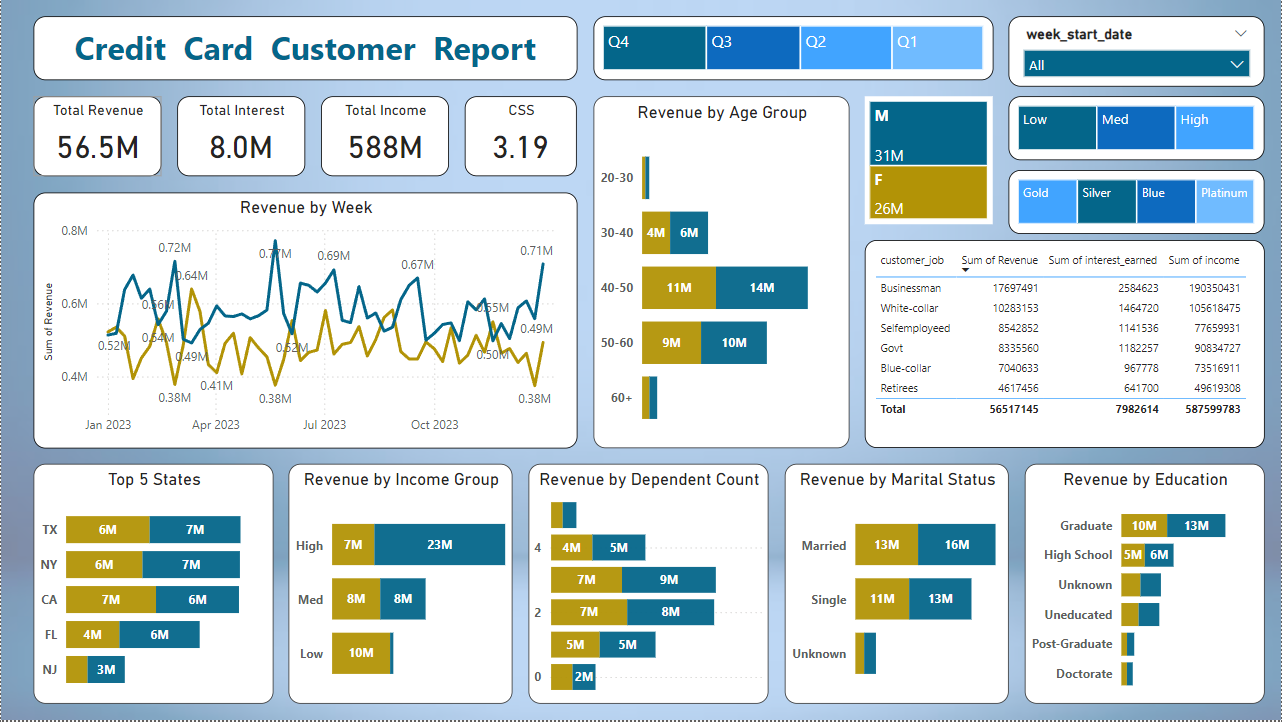

The page's visual inventory and layout, read from the dashboard file:
{"tool":"powerbi","page":{"name":"CC_Customer","canvas":[1280,720],"ordinal":2},"visuals":[{"type":"textbox","box":[32,16,544,64],"z":0},{"type":"barChart","title":"Revenue by Income Group","fields":{"Y":["Sum(public cc_detail.Revenue)"],"Category":["public cust_detail.IncomeGroup"],"Series":["public cust_detail.gender"]},"box":[288,464,224,240],"z":1000},{"type":"tableEx","fields":{"Values":["public cust_detail.customer_job","Sum(public cc_detail.Revenue)","Sum(public cc_detail.interest_earned)","Sum(public cust_detail.income)"]},"box":[864,240,400,208],"z":2000},{"type":"card","title":"Total Revenue","fields":{"Values":["Sum(public cc_detail.Revenue)"]},"box":[32,96,128,80],"z":3000},{"type":"card","title":"Total Interest","fields":{"Values":["Sum(public cc_detail.interest_earned)"]},"box":[176,96,128,80],"z":4000},{"type":"card","title":"Total Income","fields":{"Values":["Sum(public cust_detail.income)"]},"box":[320,96,128,80],"z":5000},{"type":"card","title":"CSS","fields":{"Values":["Avg(public cust_detail.cust_satisfaction_score)"]},"box":[464,96,112,80],"z":6000},{"type":"slicer","fields":{"Values":["public cc_detail.week_start_date"]},"box":[1008,16,256,70],"z":7000},{"type":"treemap","fields":{"Group":["public cc_detail.qtr"],"Values":["Avg(public cc_detail.client_num)"]},"box":[592,16,400,64],"z":8000},{"type":"treemap","fields":{"Values":["Avg(public cc_detail.client_num)"],"Group":["public cc_detail.card_category"]},"box":[1008,170,256,64],"z":9000},{"type":"treemap","fields":{"Values":["Avg(public cc_detail.client_num)"],"Group":["public cust_detail.IncomeGroup"]},"box":[1008,96,256,64],"z":10000},{"type":"lineChart","title":"Revenue by Week","fields":{"Y":["Sum(public cc_detail.Revenue)"],"Series":["public cust_detail.gender"],"Category":["public cc_detail.week_start_date.Variation.Date Hierarchy.Year","public cc_detail.week_start_date.Variation.Date Hierarchy.Quarter","public cc_detail.week_start_date.Variation.Date Hierarchy.Month","public cc_detail.week_start_date.Variation.Date Hierarchy.Day"]},"box":[32,192,544,256],"z":11000},{"type":"treemap","fields":{"Group":["public cust_detail.gender"],"Values":["Sum(public cc_detail.Revenue)"]},"box":[864,96,128,128],"z":12000},{"type":"barChart","title":"Revenue by Age Group","fields":{"Y":["Sum(public cc_detail.Revenue)"],"Category":["public cust_detail.AgeGroup"],"Series":["public cust_detail.gender"]},"box":[592,96,256,352],"z":13000},{"type":"barChart","title":"Top 5 States","fields":{"Y":["Sum(public cc_detail.Revenue)"],"Category":["public cust_detail.state_cd"],"Series":["public cust_detail.gender"]},"box":[32,464,240,240],"z":14000},{"type":"barChart","title":"Revenue by Dependent Count","fields":{"Y":["Sum(public cc_detail.Revenue)"],"Category":["public cust_detail.dependent_count"],"Series":["public cust_detail.gender"]},"box":[528,464,240,240],"z":15000},{"type":"barChart","title":"Revenue by Education","fields":{"Y":["Sum(public cc_detail.Revenue)"],"Category":["public cust_detail.education_level"],"Series":["public cust_detail.gender"]},"box":[1024,464,240,240],"z":16000},{"type":"barChart","title":"Revenue by Marital Status","fields":{"Y":["Sum(public cc_detail.Revenue)"],"Category":["public cust_detail.marital_status"],"Series":["public cust_detail.gender"]},"box":[784,464,224,240],"z":16001}]}

Visuals, with their boxes in screenshot pixels (x1, y1, x2, y2), scaled from the page's 1280x720 canvas onto the 1282x722 screenshot:
textbox: <bbox>32, 16, 577, 80</bbox>
"Revenue by Income Group" barChart: <bbox>288, 465, 513, 706</bbox>
tableEx - public cust_detail.customer_job x Sum(public cc_detail.Revenue): <bbox>865, 241, 1266, 449</bbox>
"Total Revenue" card: <bbox>32, 96, 160, 176</bbox>
"Total Interest" card: <bbox>176, 96, 304, 176</bbox>
"Total Income" card: <bbox>320, 96, 449, 176</bbox>
"CSS" card: <bbox>465, 96, 577, 176</bbox>
slicer - public cc_detail.week_start_date: <bbox>1010, 16, 1266, 86</bbox>
treemap - public cc_detail.qtr x Avg(public cc_detail.client_num): <bbox>593, 16, 994, 80</bbox>
treemap - Avg(public cc_detail.client_num) x public cc_detail.card_category: <bbox>1010, 170, 1266, 235</bbox>
treemap - Avg(public cc_detail.client_num) x public cust_detail.IncomeGroup: <bbox>1010, 96, 1266, 160</bbox>
"Revenue by Week" lineChart: <bbox>32, 193, 577, 449</bbox>
treemap - public cust_detail.gender x Sum(public cc_detail.Revenue): <bbox>865, 96, 994, 225</bbox>
"Revenue by Age Group" barChart: <bbox>593, 96, 849, 449</bbox>
"Top 5 States" barChart: <bbox>32, 465, 272, 706</bbox>
"Revenue by Dependent Count" barChart: <bbox>529, 465, 769, 706</bbox>
"Revenue by Education" barChart: <bbox>1026, 465, 1266, 706</bbox>
"Revenue by Marital Status" barChart: <bbox>785, 465, 1010, 706</bbox>
